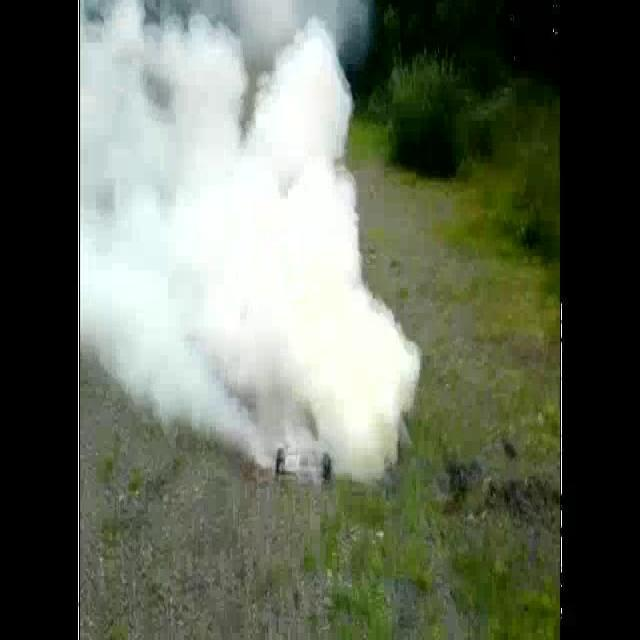Smoke: (78, 0, 425, 485)
